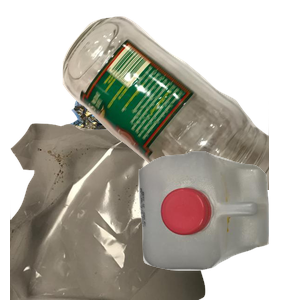glass: (60, 14, 300, 194)
metal: (61, 54, 225, 202)
plastic: (136, 149, 300, 300)
trash: (10, 120, 250, 300)
